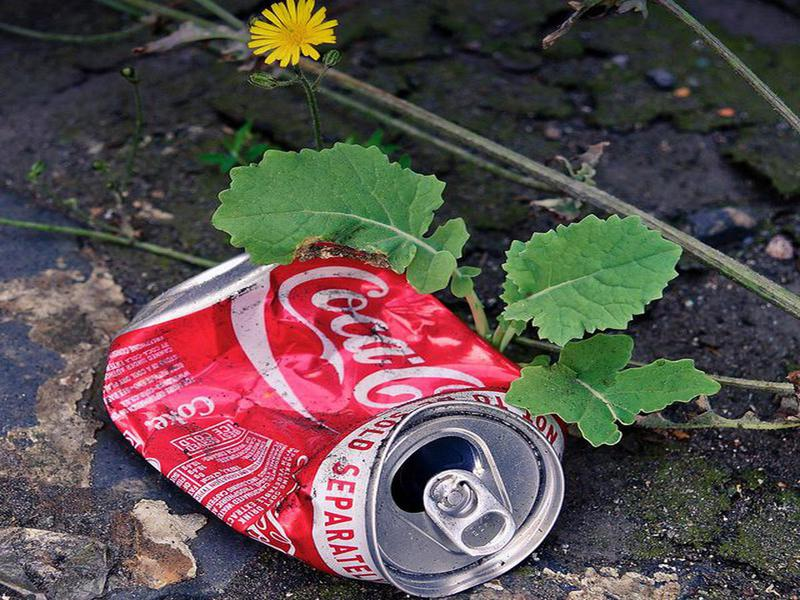can: (97, 237, 574, 600)
leaf: (203, 132, 447, 273), (497, 206, 683, 347), (506, 334, 727, 451)
